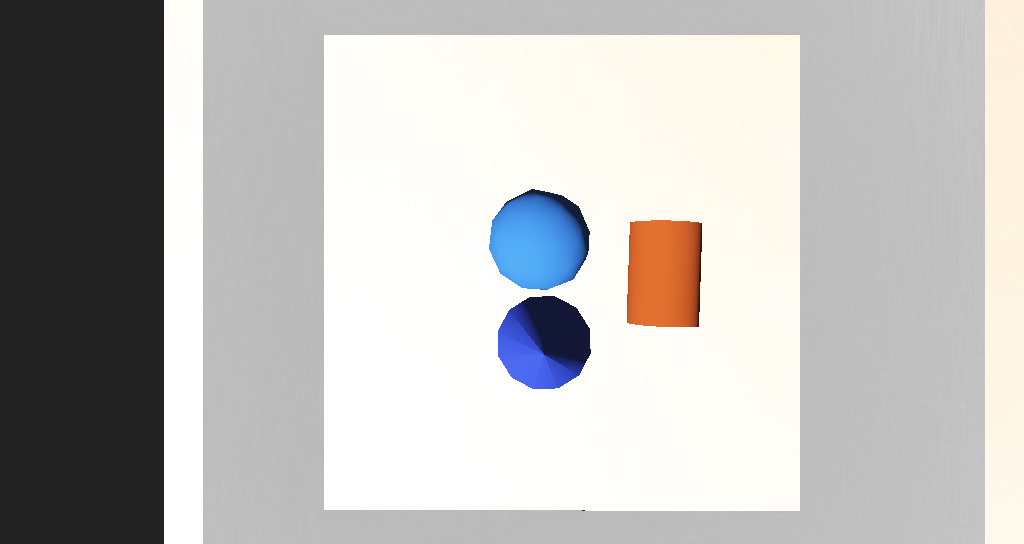cone: (549, 243, 596, 291)
cylinder: (455, 279, 529, 332)
sphere: (461, 229, 522, 277)
